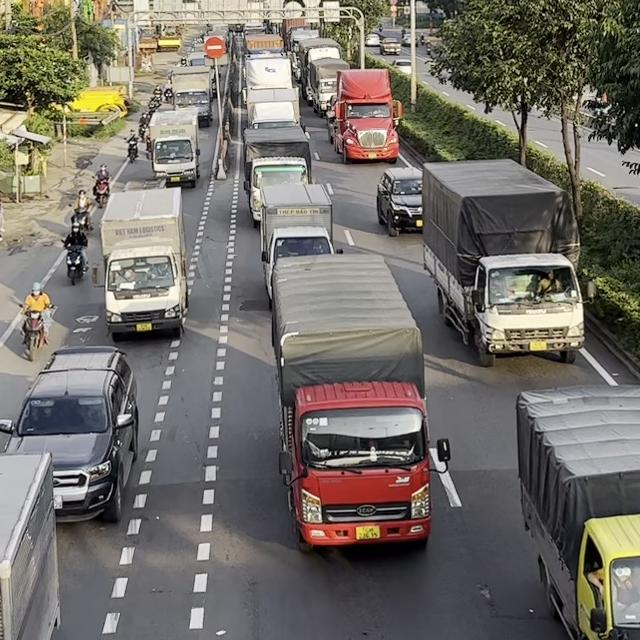car: (0, 345, 138, 524), (375, 166, 423, 237)
motorcycle: (20, 303, 57, 360), (61, 240, 88, 285), (92, 175, 110, 208), (70, 206, 92, 233), (124, 136, 138, 163)
truck: (269, 250, 453, 552), (420, 157, 594, 367), (515, 383, 639, 639), (91, 185, 192, 341), (260, 182, 341, 302), (325, 67, 403, 163), (242, 126, 313, 227), (145, 107, 201, 188), (168, 65, 214, 128)
